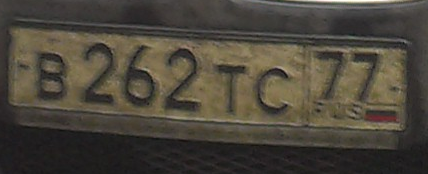character: (121, 42, 159, 110), (83, 38, 117, 106), (167, 46, 202, 110), (33, 45, 71, 101), (216, 56, 251, 116), (256, 64, 292, 117), (312, 48, 344, 101), (349, 49, 382, 100)
